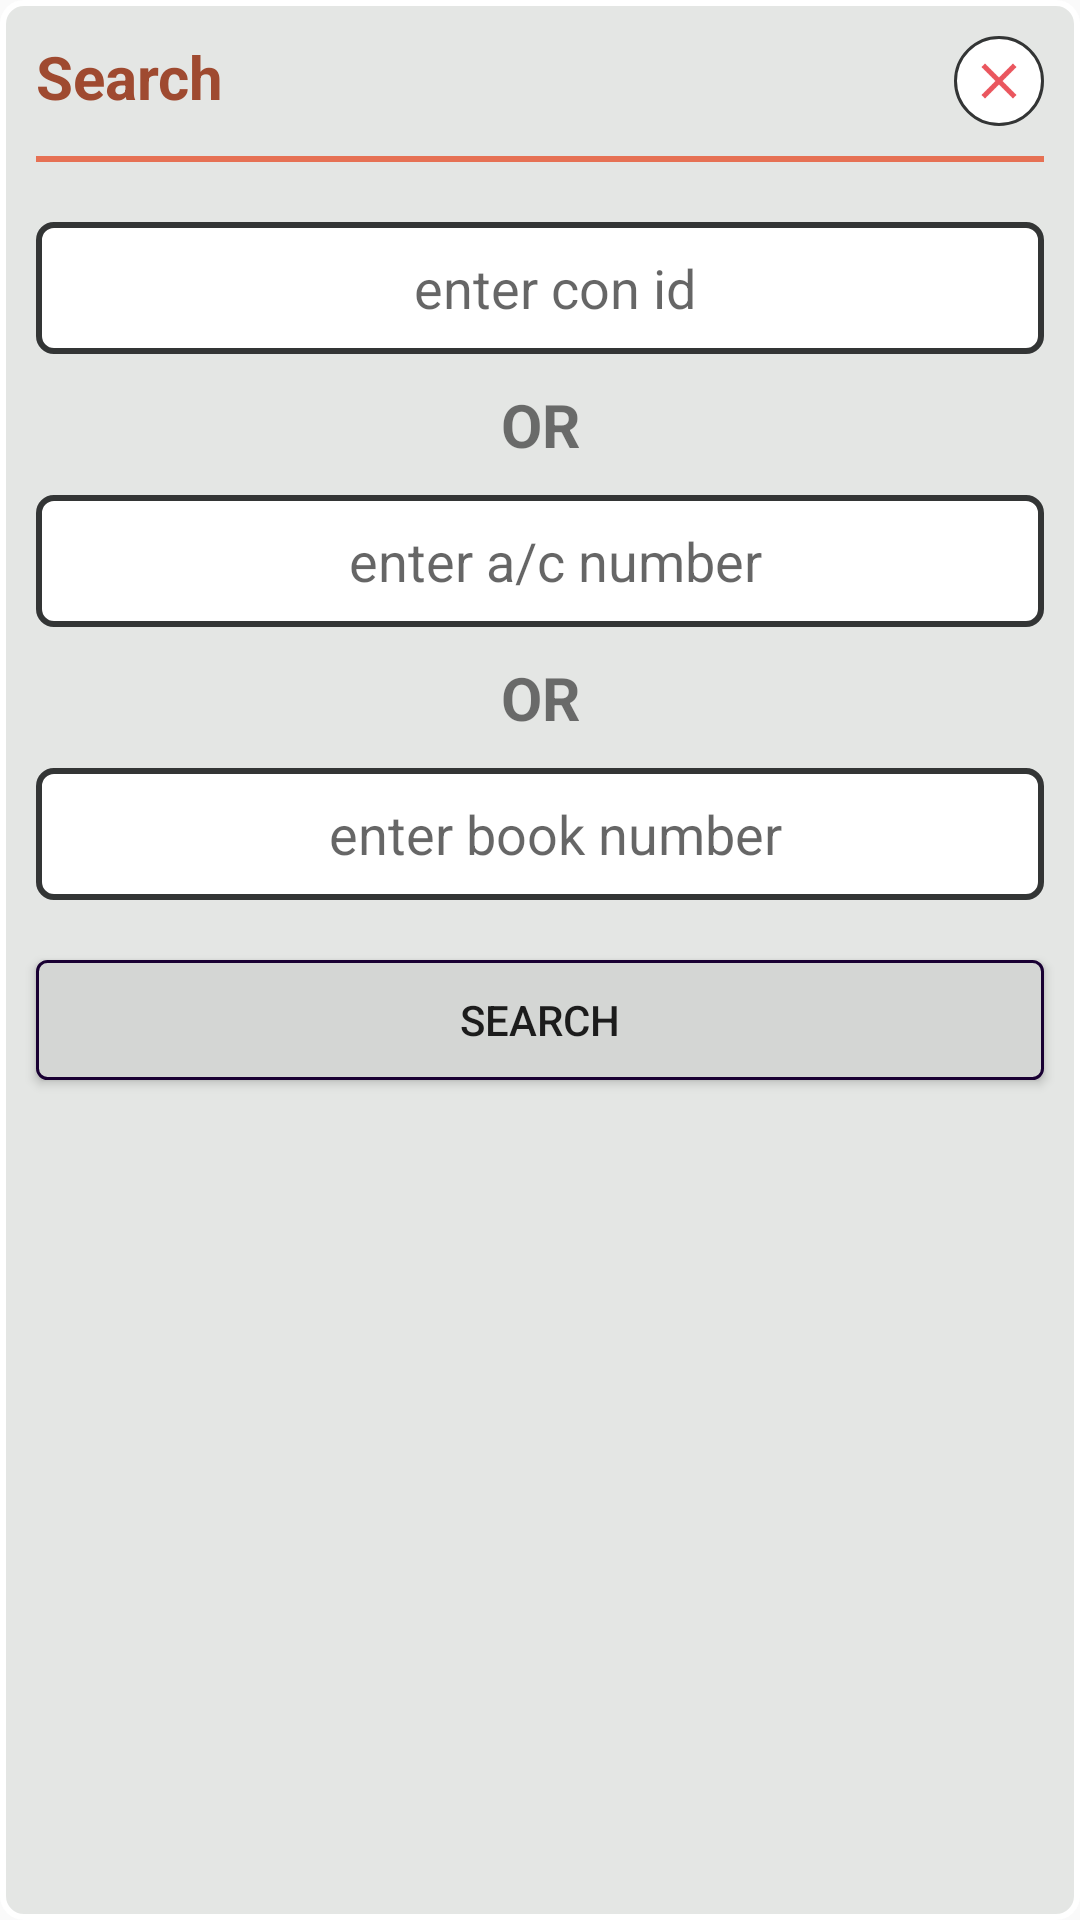

Icon click points for this 1080 × 1920 phone screenshot, format [x,y]:
close: [999,81]
